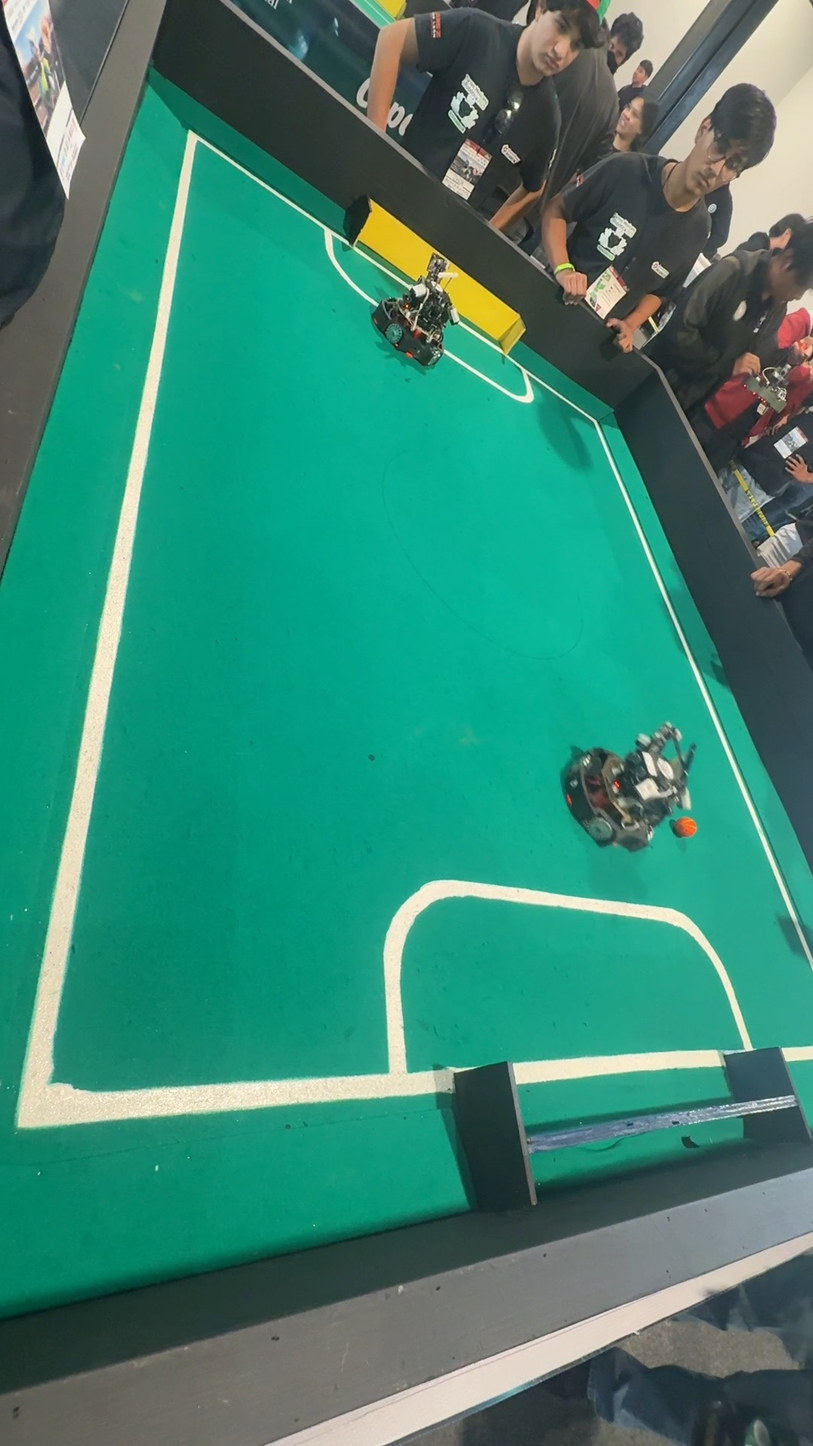Robot: (558, 705, 693, 859), (366, 249, 461, 382)
pelota: (676, 813, 696, 839)
